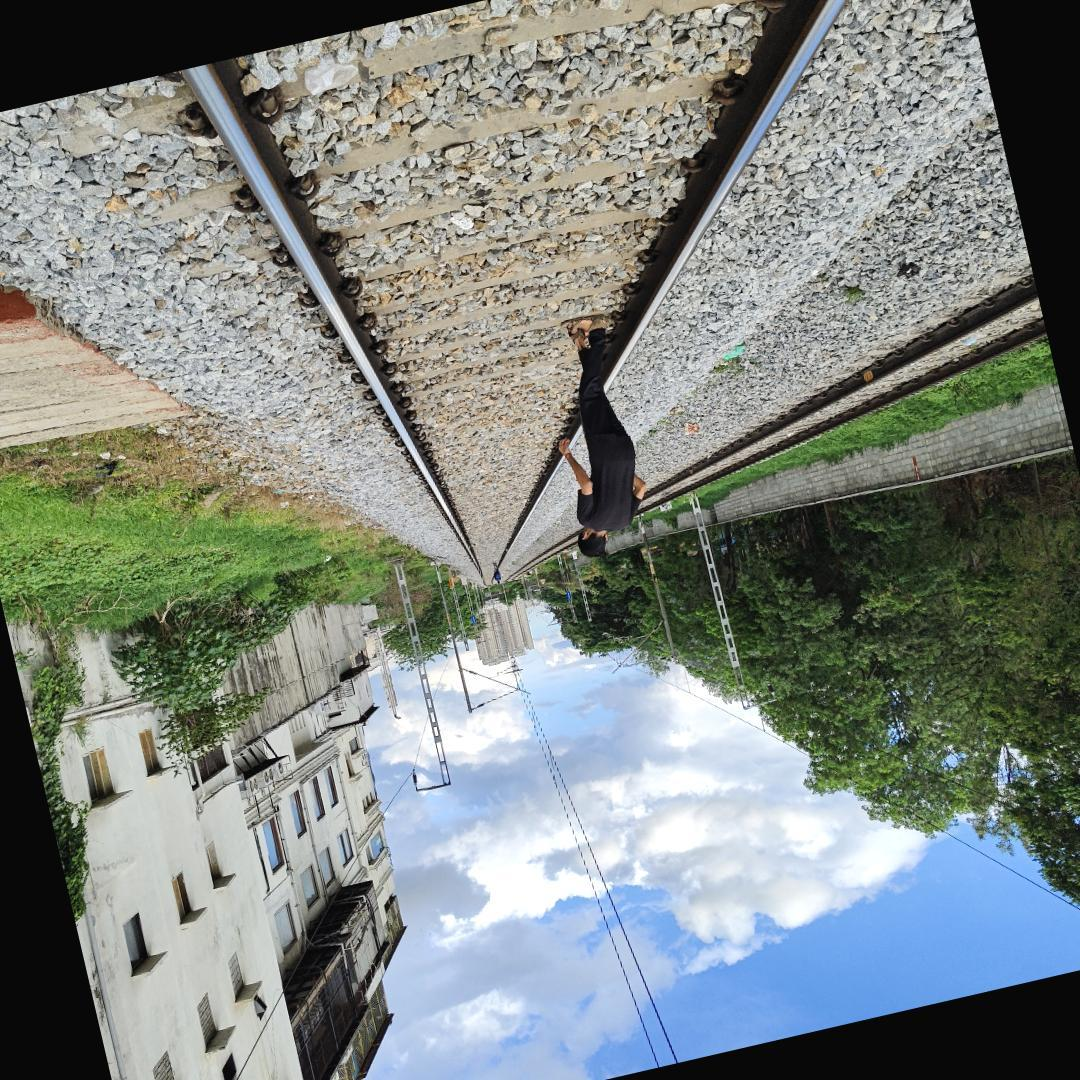standing: (552, 294, 661, 568)
